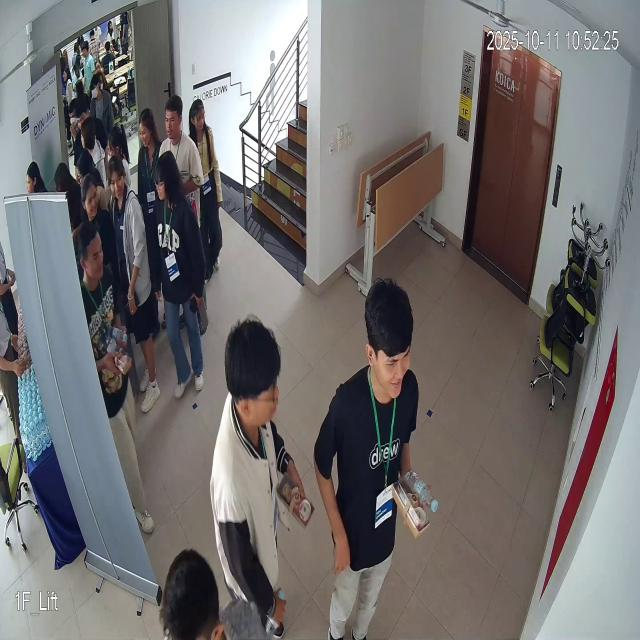face: (362, 272, 417, 400), (150, 149, 180, 220)
